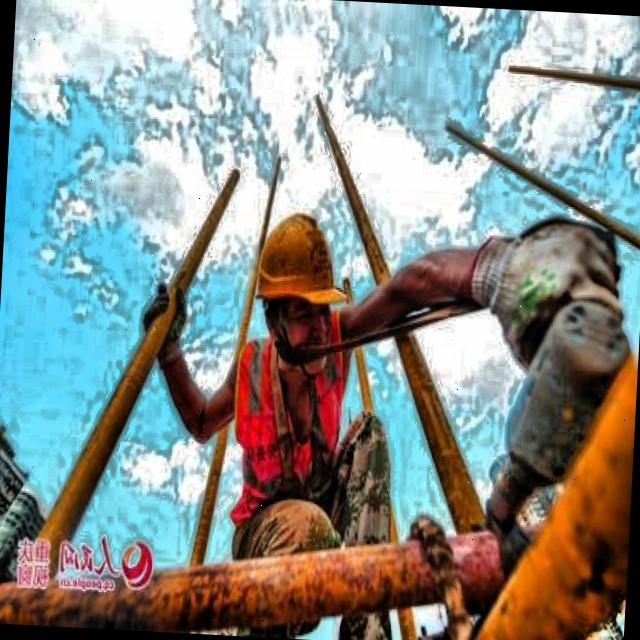helmet: (240, 198, 356, 386)
